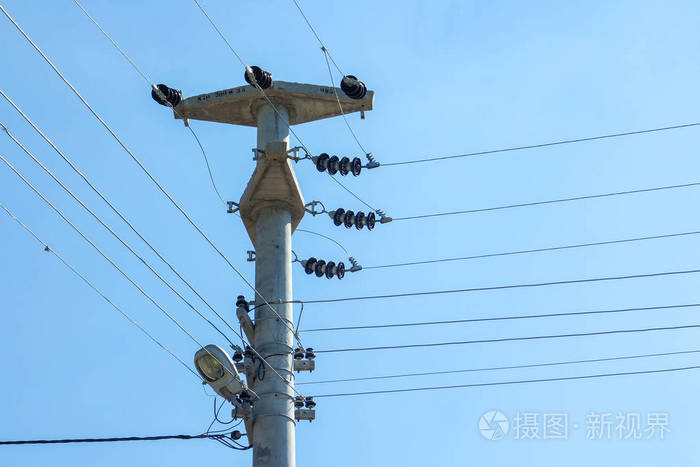insulator: (315, 151, 359, 178), (331, 208, 377, 233), (301, 256, 346, 281), (151, 82, 183, 107), (342, 74, 366, 100), (246, 64, 272, 87)
